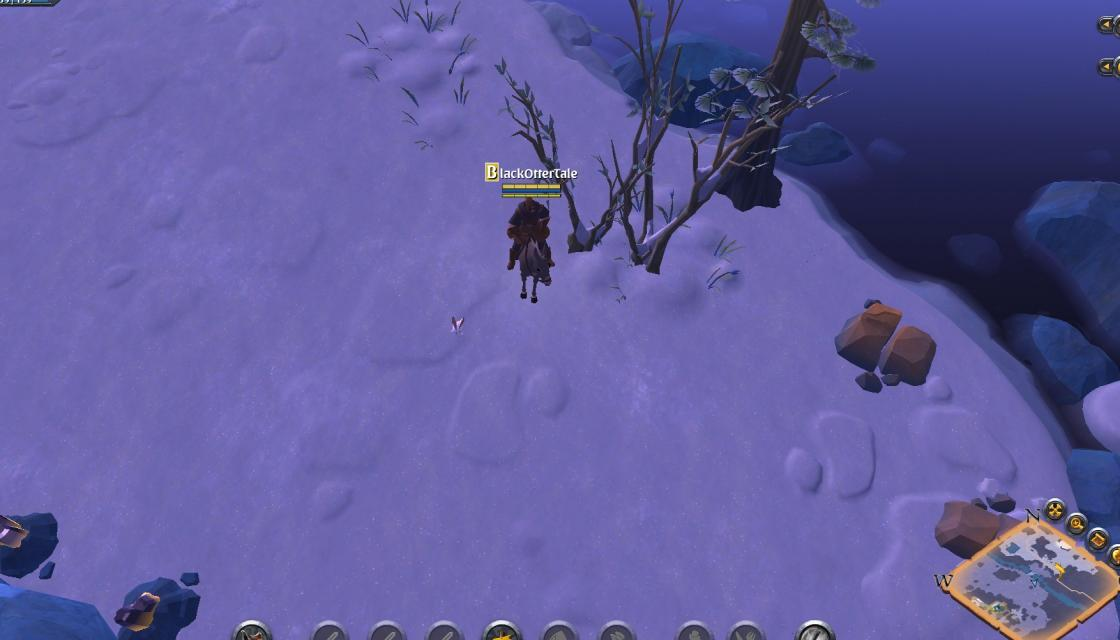copperore: (106, 576, 198, 640), (0, 506, 63, 578)
limestone: (832, 299, 937, 398), (934, 494, 1026, 556)
